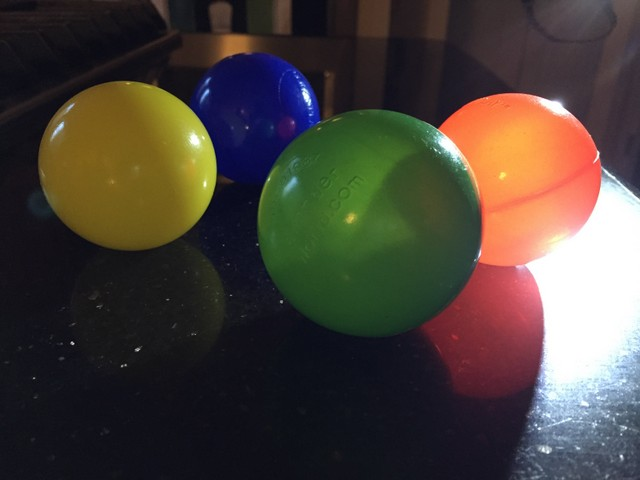ball: (36, 79, 216, 252)
